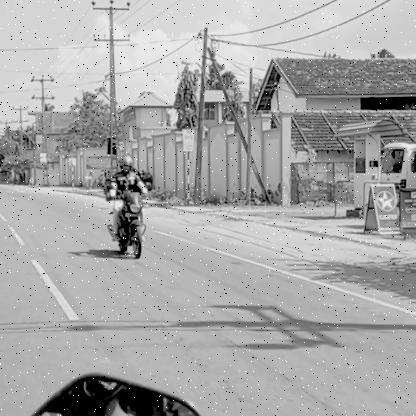motorcycle: (104, 188, 156, 262)
